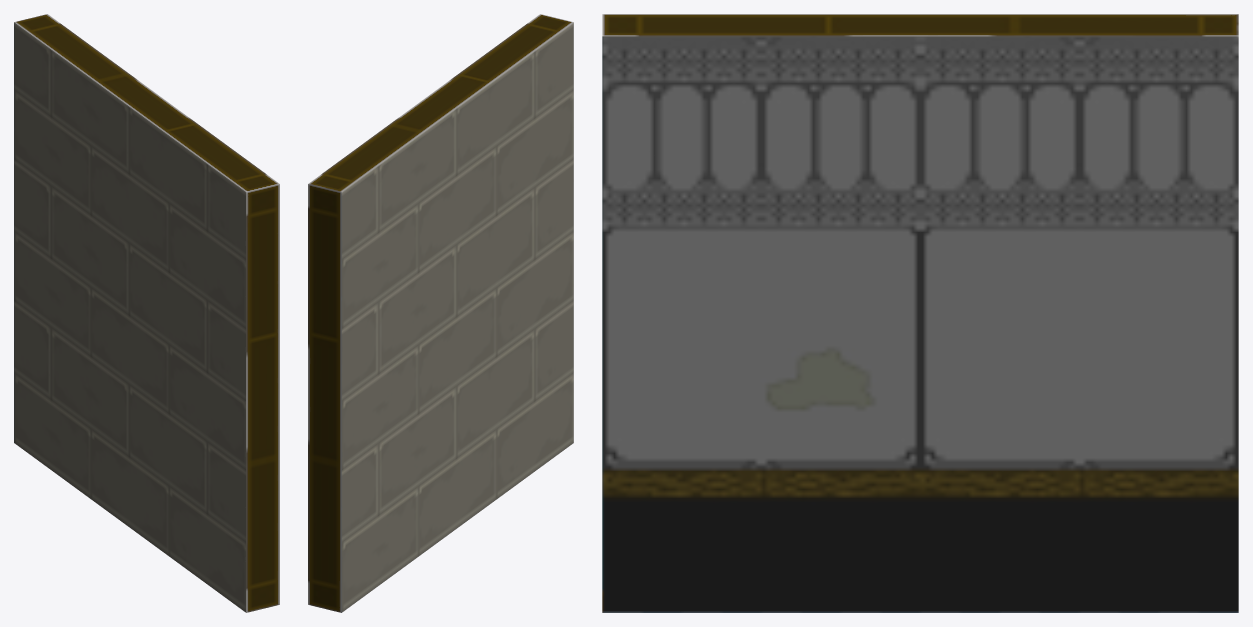
File: Wall_12.fbx
3 views of the same model, side by side, from view 1: azimuth 30°, elevation 25°; view 2: azimuth 150°, elevation 25°; view 3: azimuth 270°, elevation 25° (orthographic). The views are drawn at different scales.
Parts seen in each view (by area): view 1: Wall_12; view 2: Wall_12; view 3: Wall_12.
Part boxes in pixels (x1,y1,x2,y2): Wall_12: (14,14,279,612); Wall_12: (308,14,573,612); Wall_12: (602,14,1238,612).
Bounding box in the file's own units: 50 × 600 × 600.
